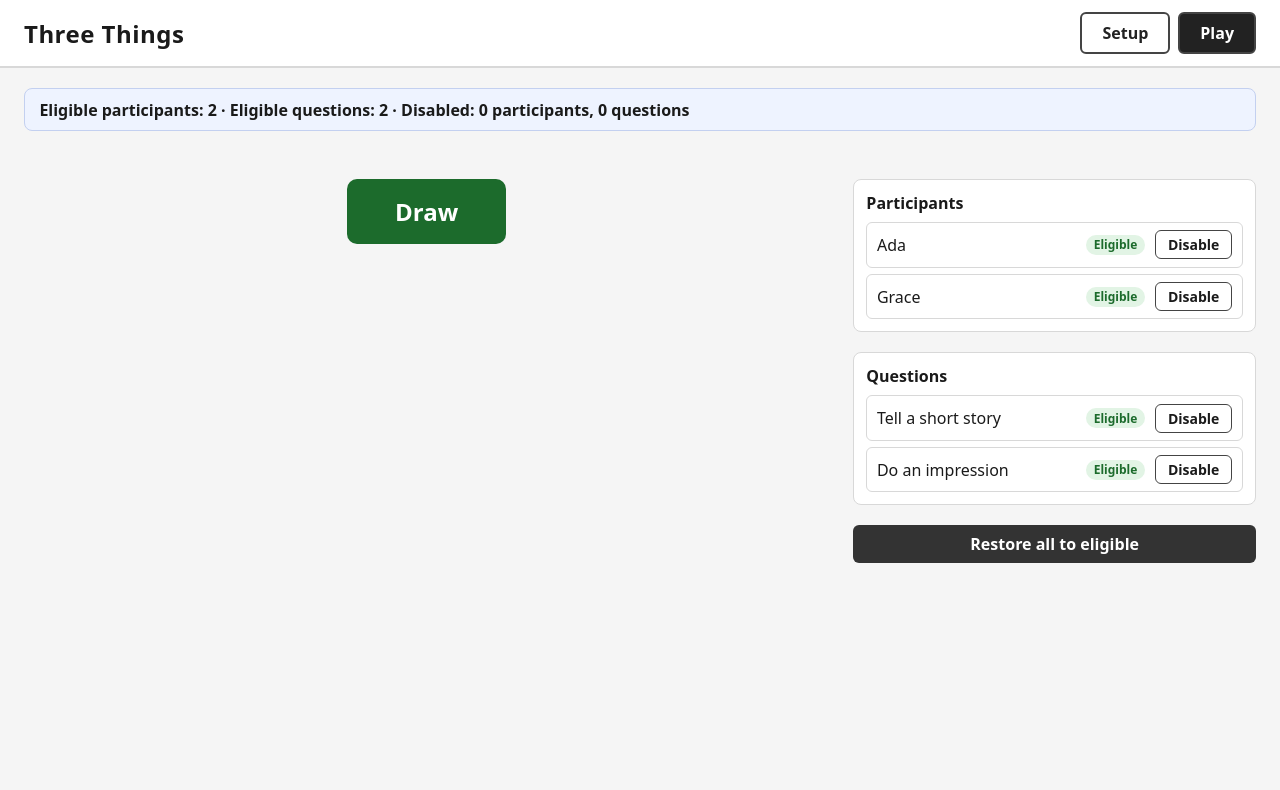
Test: timing settings flow › rejects an out-of-range answer time and names its own range (V4, FR-006)
The image size is (1280, 790).
Click the button "Setup" at (1125, 33), box [1080,12,1170,54]
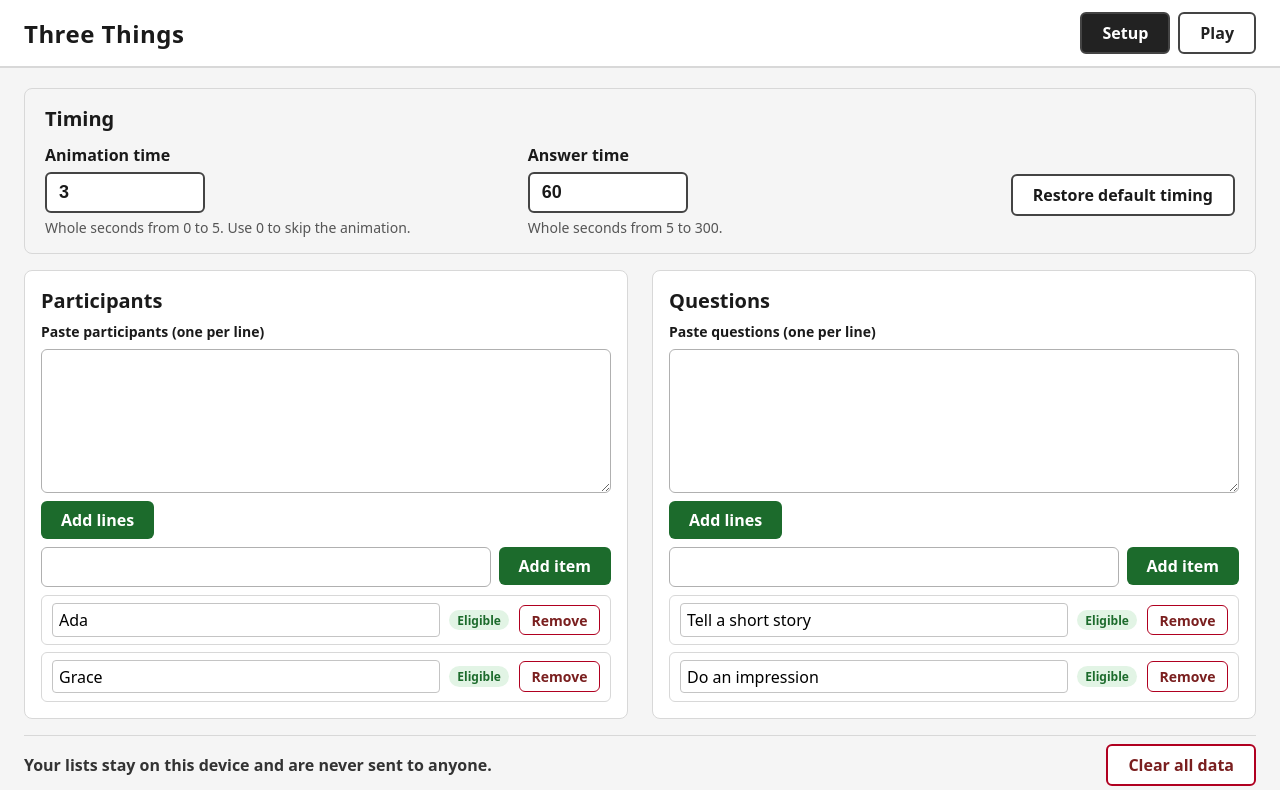
Replace the text in the field labelled "Answer time" with "120" at (608, 192), box [528,172,688,213]
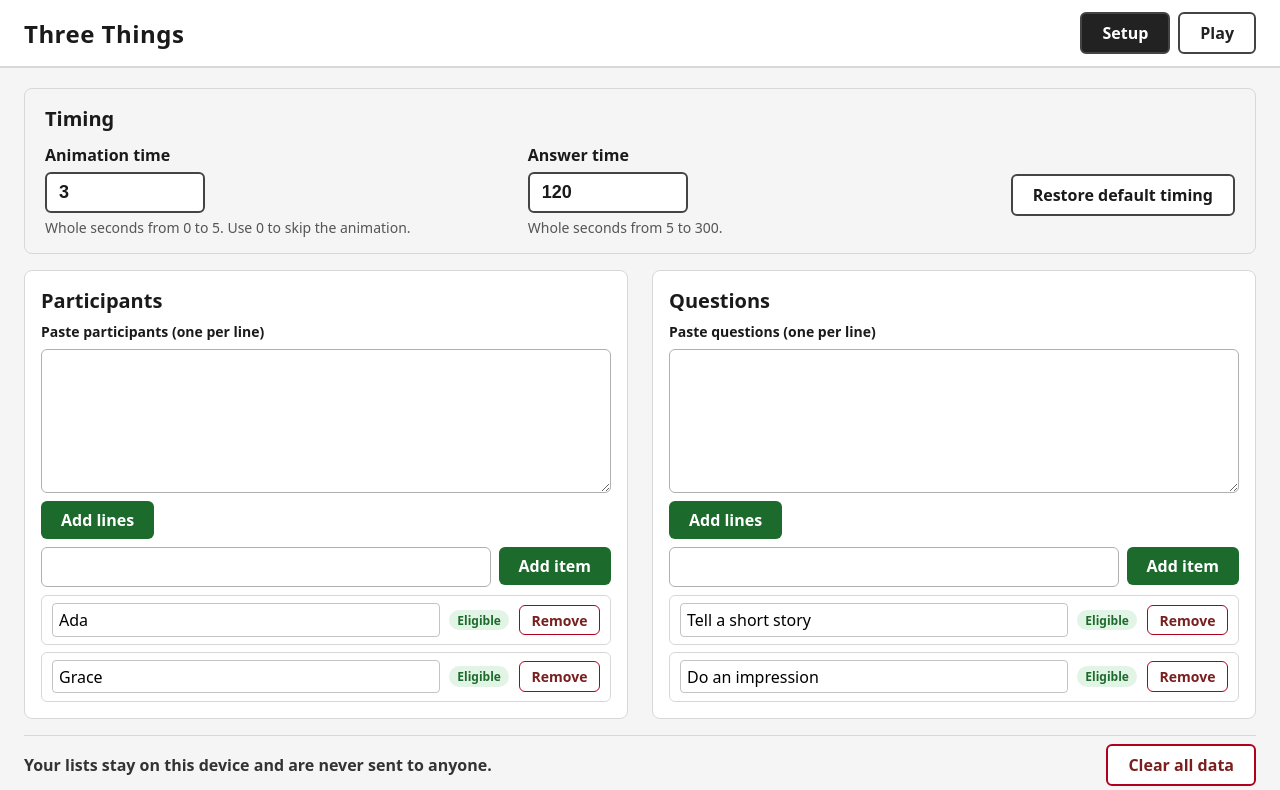
Press Enter in the field labelled "Answer time", box [528,172,688,213]
Replace the text in the field labelled "Answer time" with "2" at (608, 192), box [528,172,688,213]
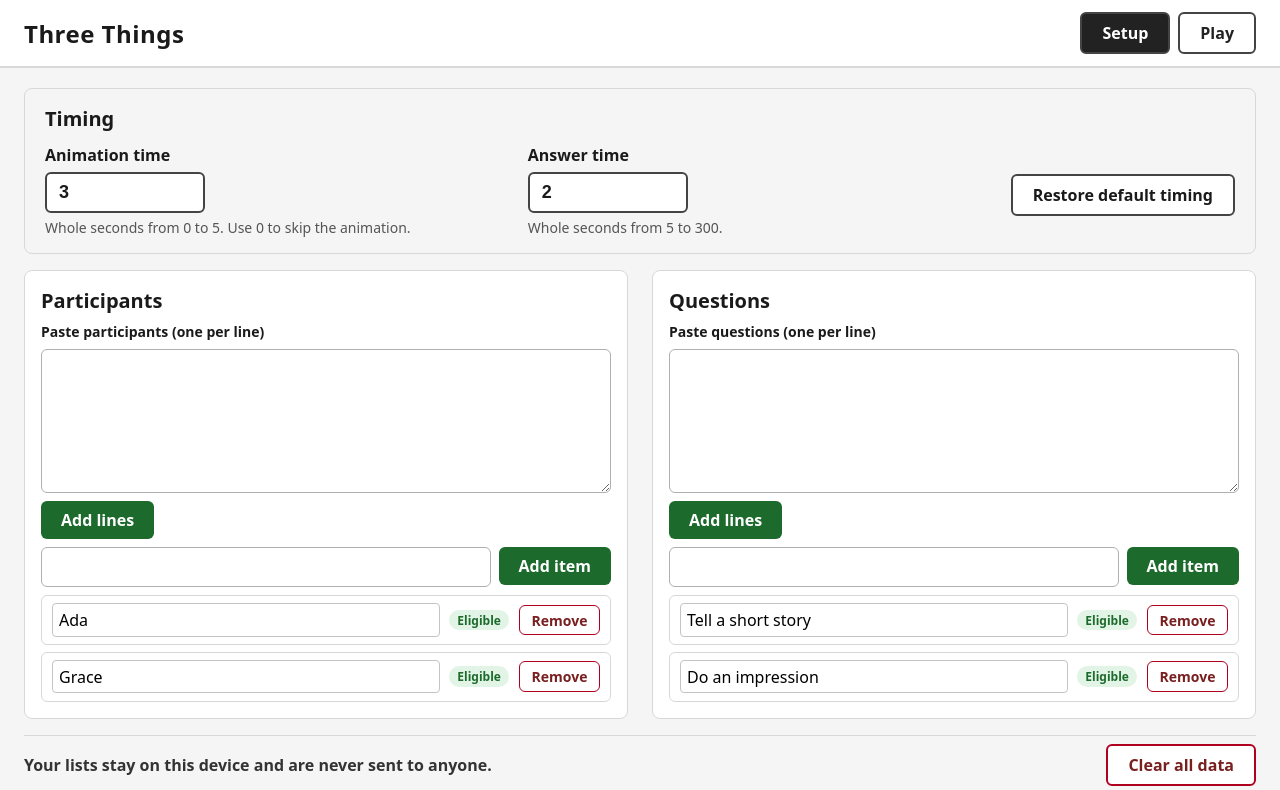
Press Enter in the field labelled "Answer time", box [528,172,688,213]
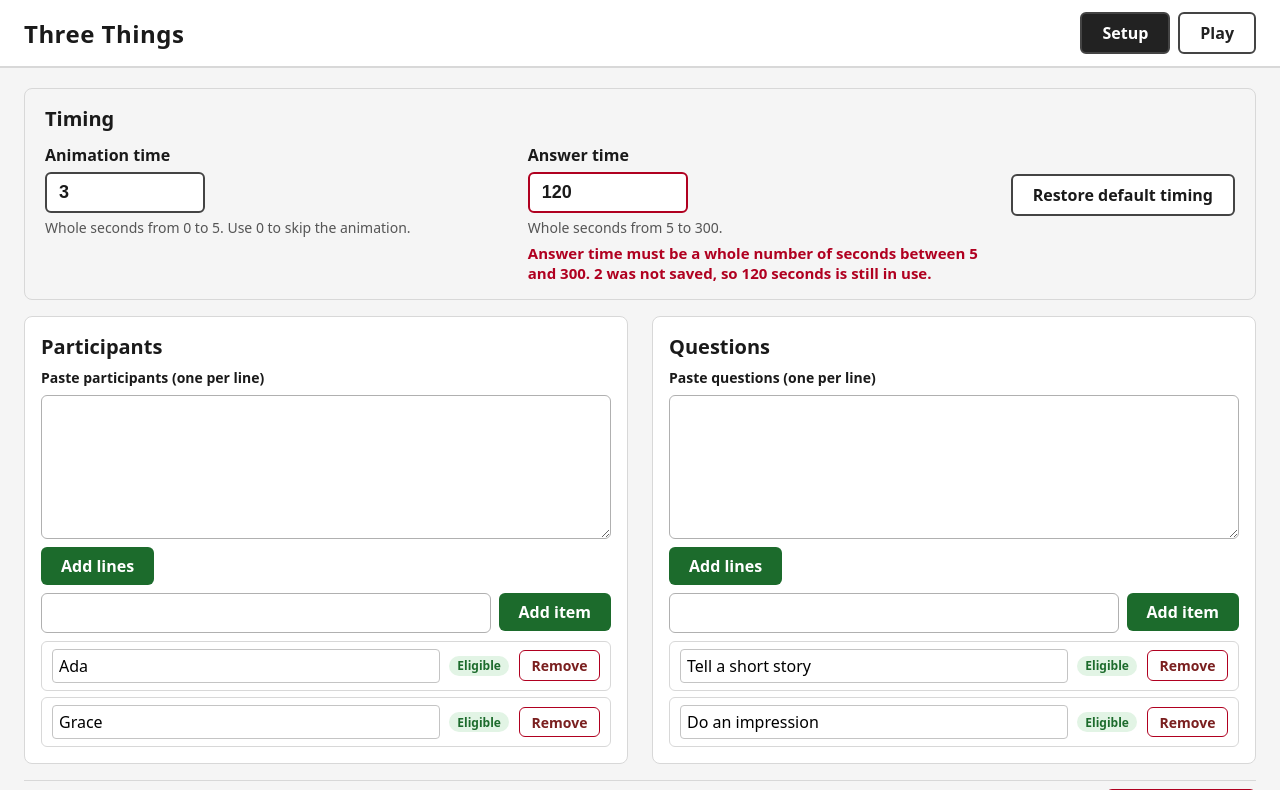
Result: the message shows "Answer time" at [528,243,978,283]
Result: the message shows "between 5 and 300" at [528,243,978,283]
Result: the message shows "120 seconds is still in use" at [528,243,978,283]
